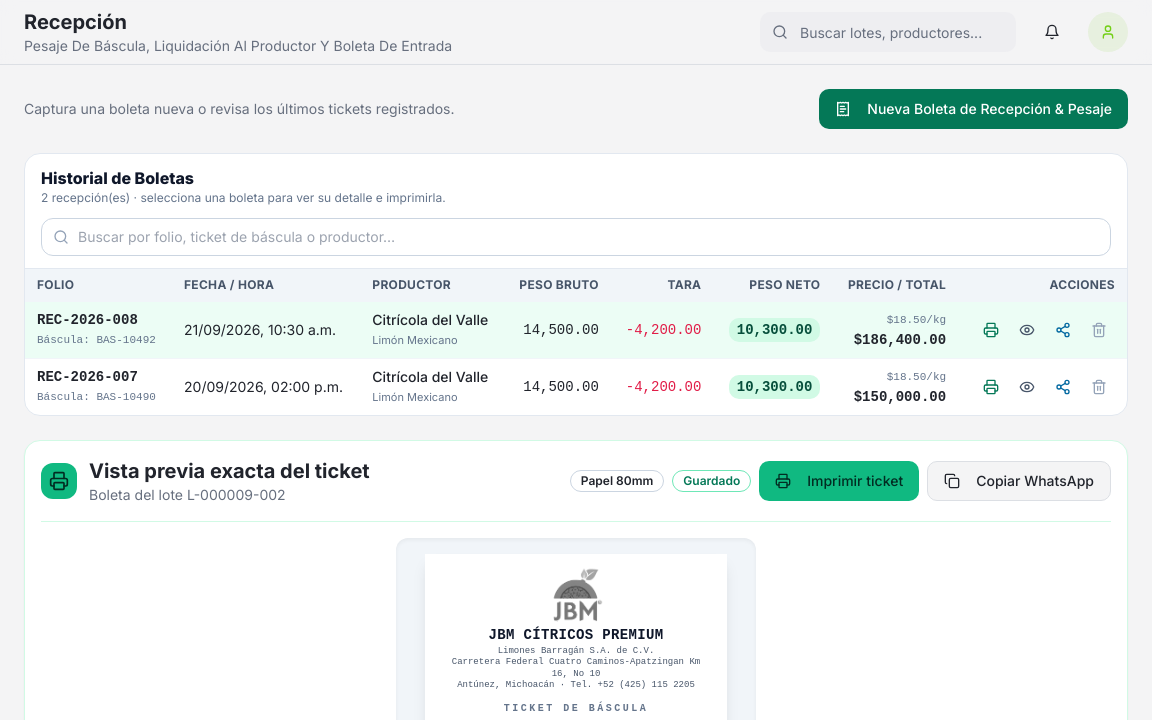
Test: Recepcion: listado de tickets › cambia el detalle al seleccionar otro ticket
Click the text "REC-2026-007" at (87, 377), box [37, 369, 138, 385]
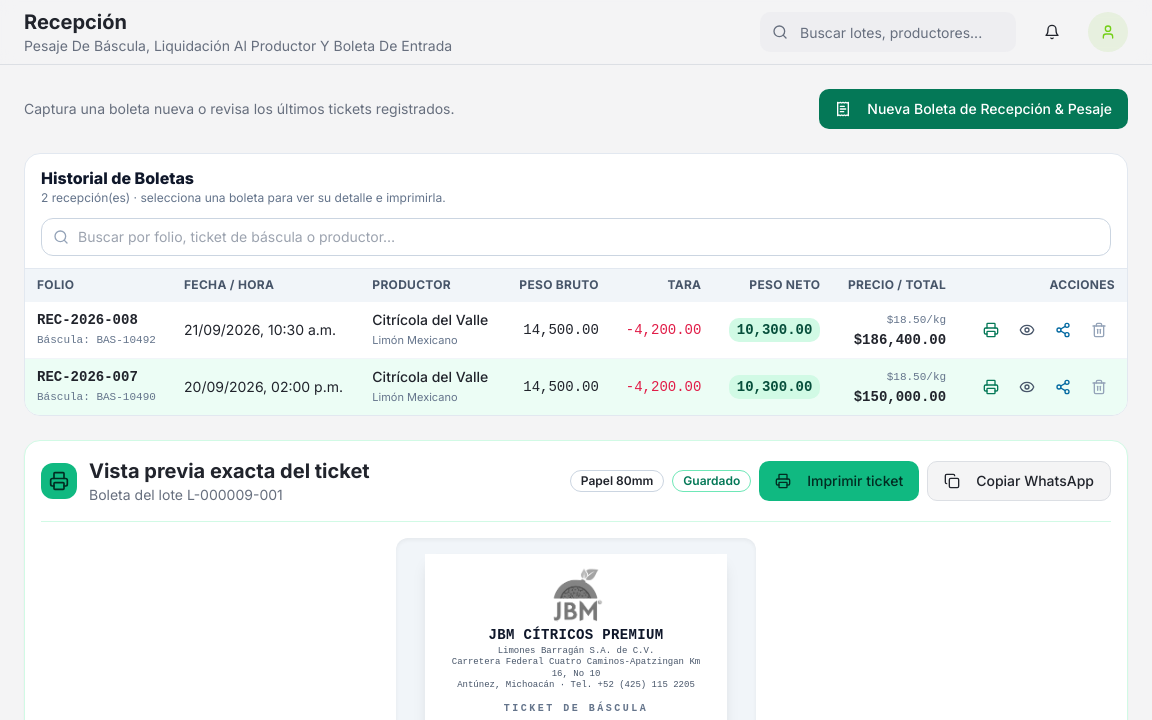
Expected: the text "Boleta del lote L-000009-001" is shown, [89, 486, 283, 503]
